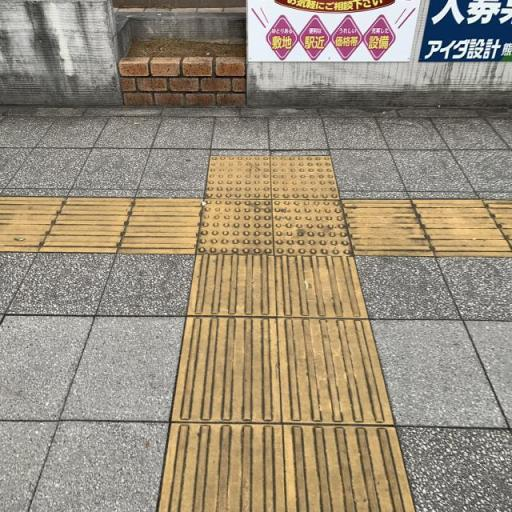dot: (271, 199, 354, 256), (195, 199, 274, 255), (271, 156, 340, 200), (203, 156, 273, 199)
line: (277, 317, 395, 426), (171, 315, 284, 423), (283, 422, 418, 511), (156, 422, 287, 511), (412, 198, 511, 257), (274, 256, 368, 318), (36, 197, 136, 253), (188, 255, 276, 317), (342, 199, 435, 256), (116, 198, 205, 254)
